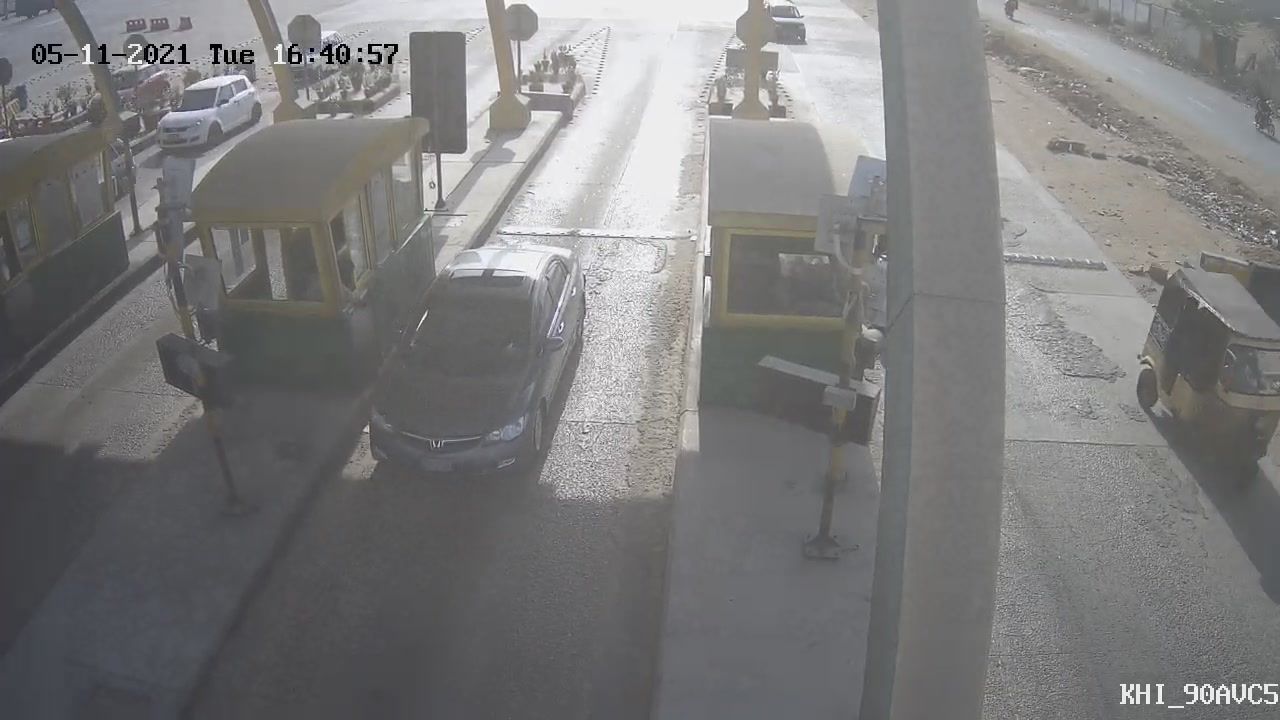F1: (351, 225, 600, 504)
